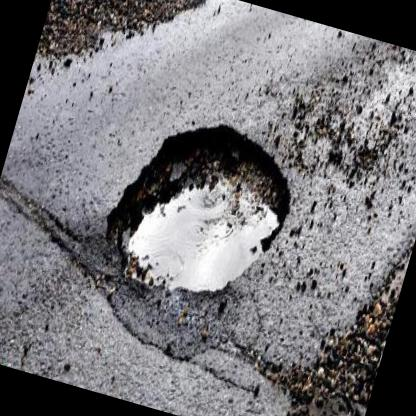pothole: (89, 93, 312, 320)
